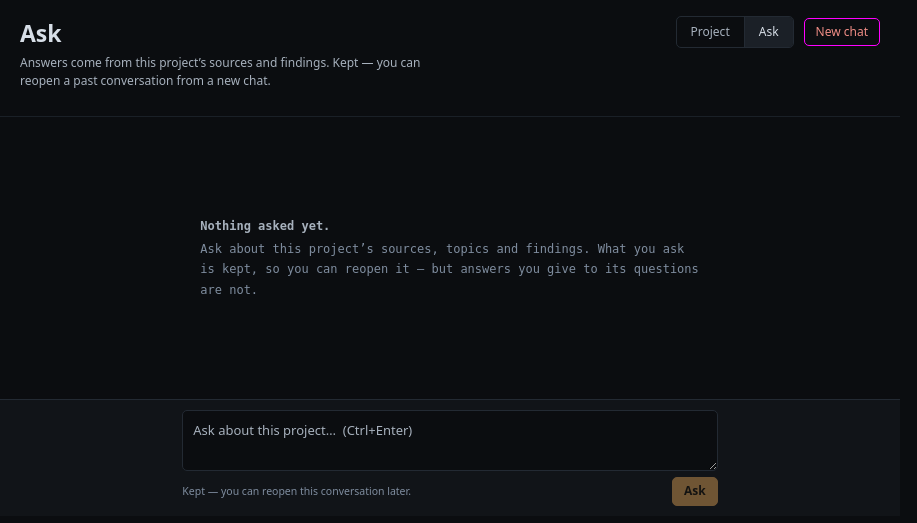
scrolls the thread and not the page, so the composer keeps the bottom edge
The image size is (917, 523).
In the text box: (450, 441) [182,410,718,471], type "what did we find?"
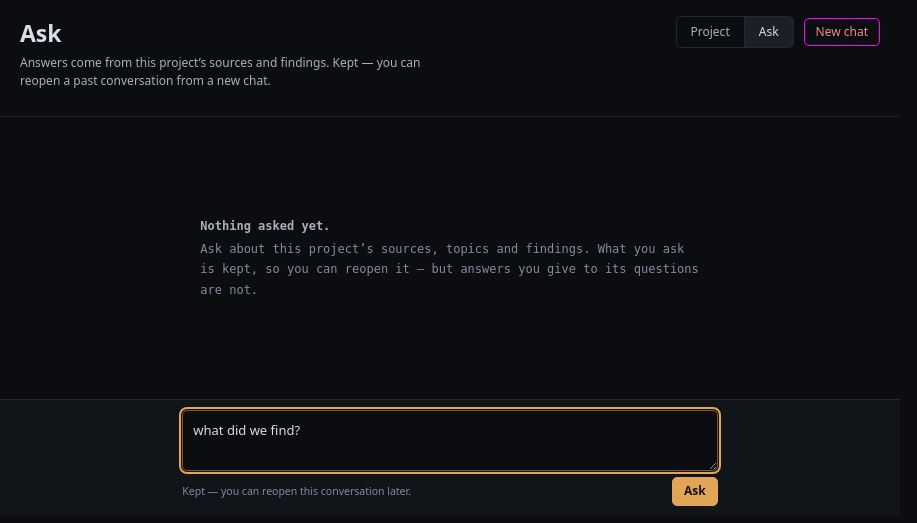
Click the button "Ask": (695, 492) [672,477,718,506]
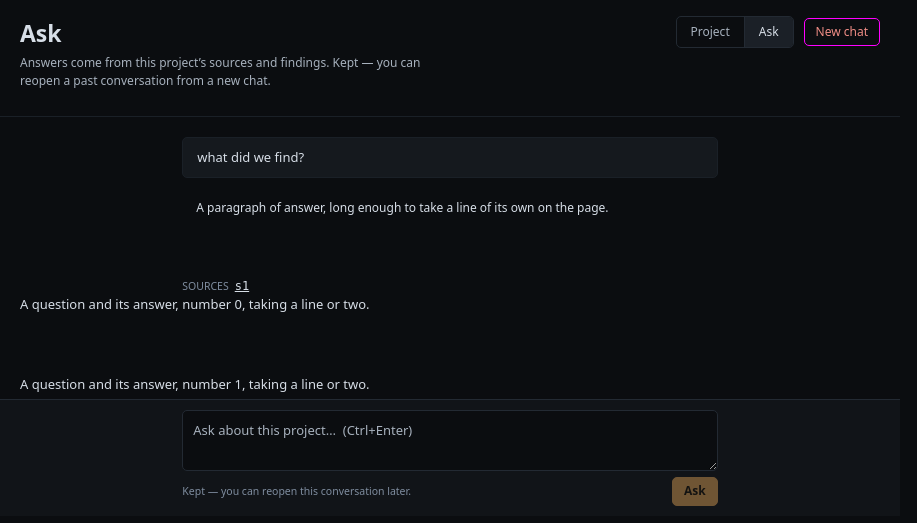
Expected: the link "s1" is shown, [235,279,249,293]
